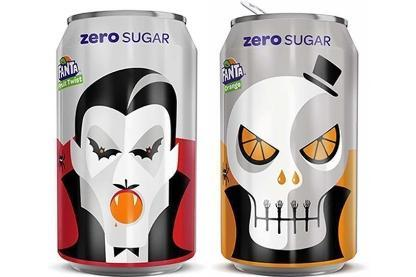Can: (55, 7, 199, 277), (219, 9, 359, 276)
